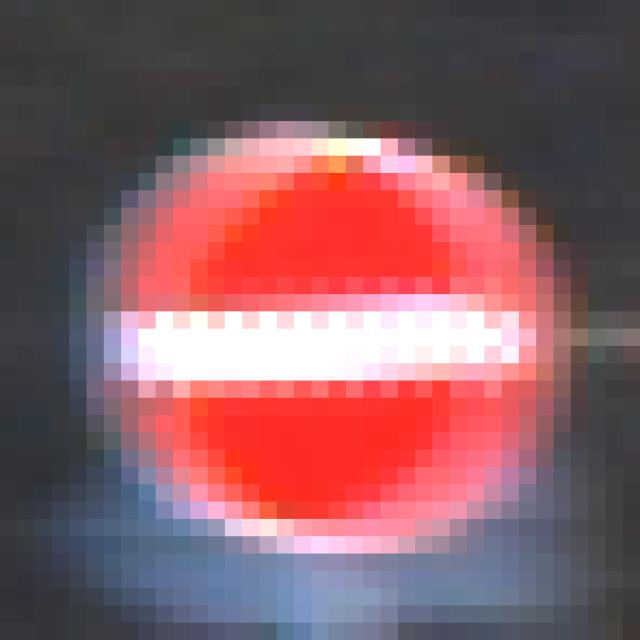No Entry: (88, 105, 555, 554)
